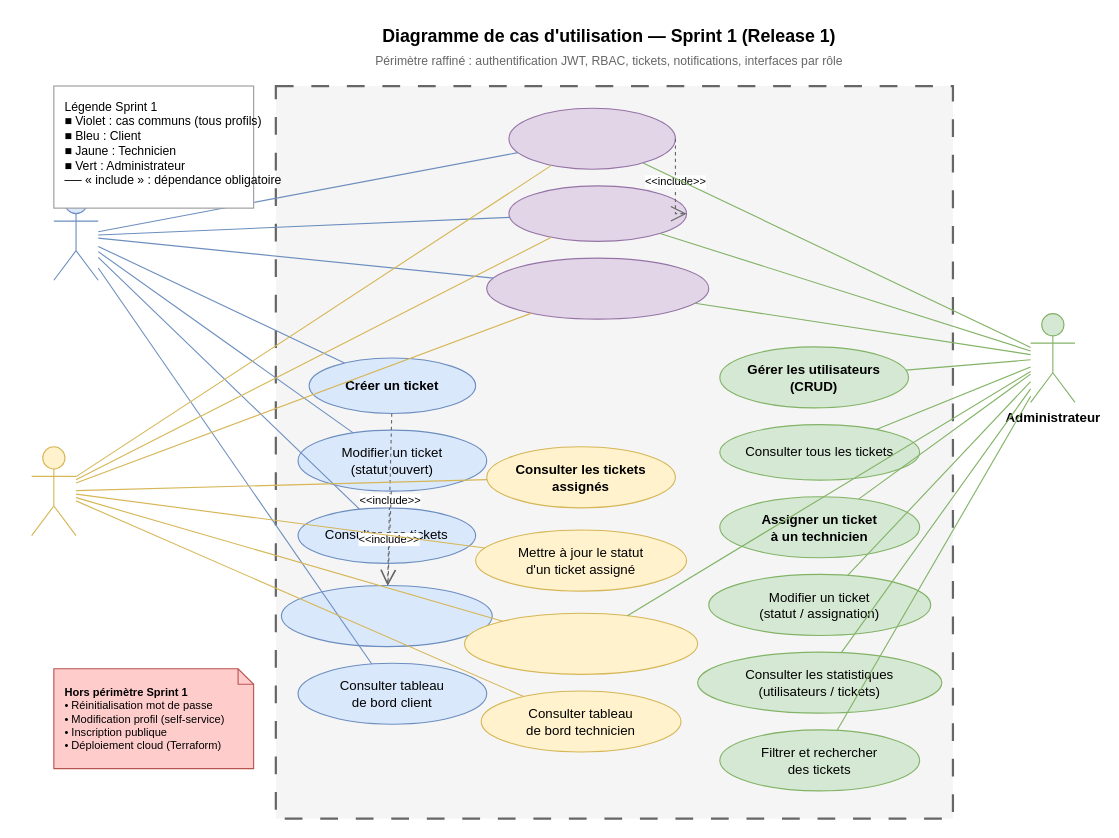
This 1119x838 diagram has some shape labels left out. Each missing label, with the box of its shape:
Client: (53, 190, 98, 280)
Consulter et gérer ses notifications: (486, 257, 709, 319)
Consulter son profil: (508, 185, 687, 241)
Joindre des pièces jointes (Cloudinary): (280, 584, 492, 647)
Recevoir des alertes temps réel (WebSocket): (463, 612, 698, 674)
S'authentifier (JWT): (508, 107, 675, 169)
Système TicketManager — Sprint 1: (274, 84, 953, 819)
Technicien: (31, 446, 76, 536)
